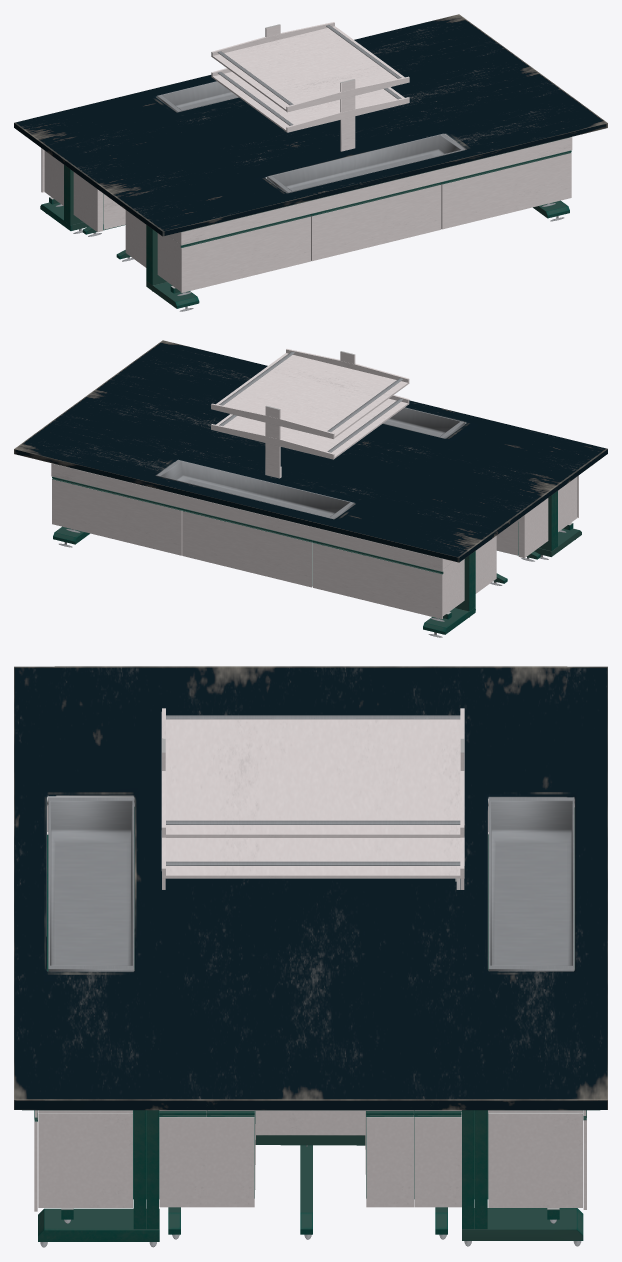
The model's file is labtable.glb.
3 renders of one model, top to bottom at view 1: azimuth 30°, elevation 25°; view 2: azimuth 150°, elevation 25°; view 3: azimuth 270°, elevation 25°, orthographic. The views are drawn at different scales.
Visible parts, largest first — view 1: Object_2; view 2: Object_2; view 3: Object_2.
Boxes of the visible parts, x1=… form: Object_2: x1=14, y1=14, x2=607, y2=311; Object_2: x1=14, y1=340, x2=607, y2=637; Object_2: x1=14, y1=666, x2=607, y2=1247.
Bounding box in the file's own units: 3.2 × 1.1 × 1.85.
1 material, 1 textured.
